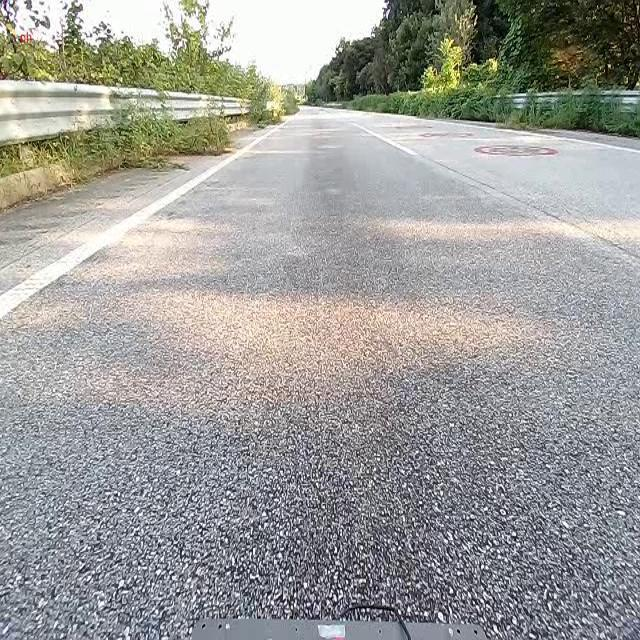Lane: (0, 122, 287, 320), (0, 123, 284, 320)
